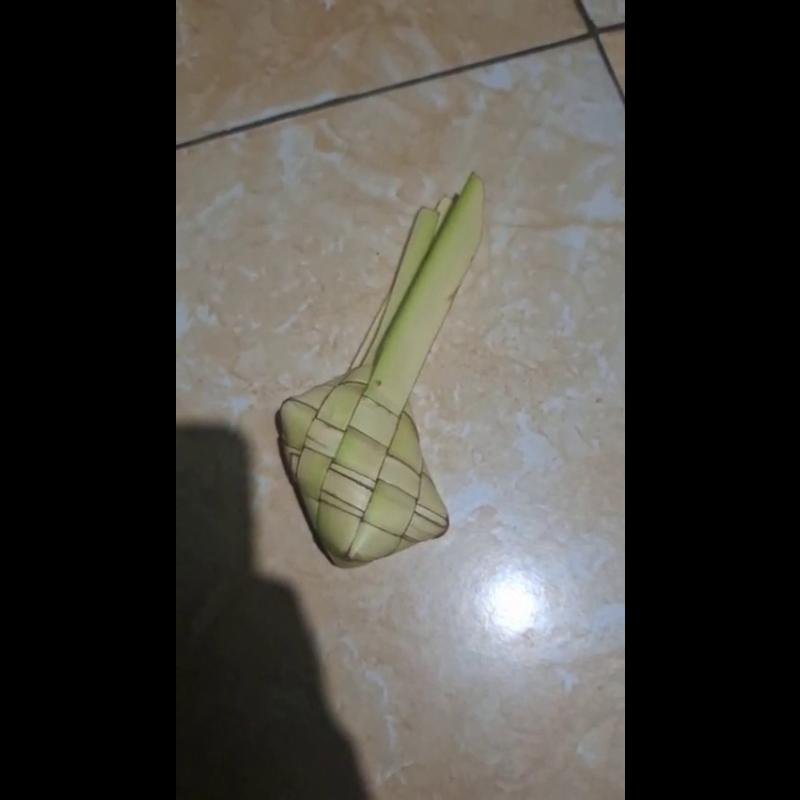Tipat Bantal: (269, 176, 492, 585)
